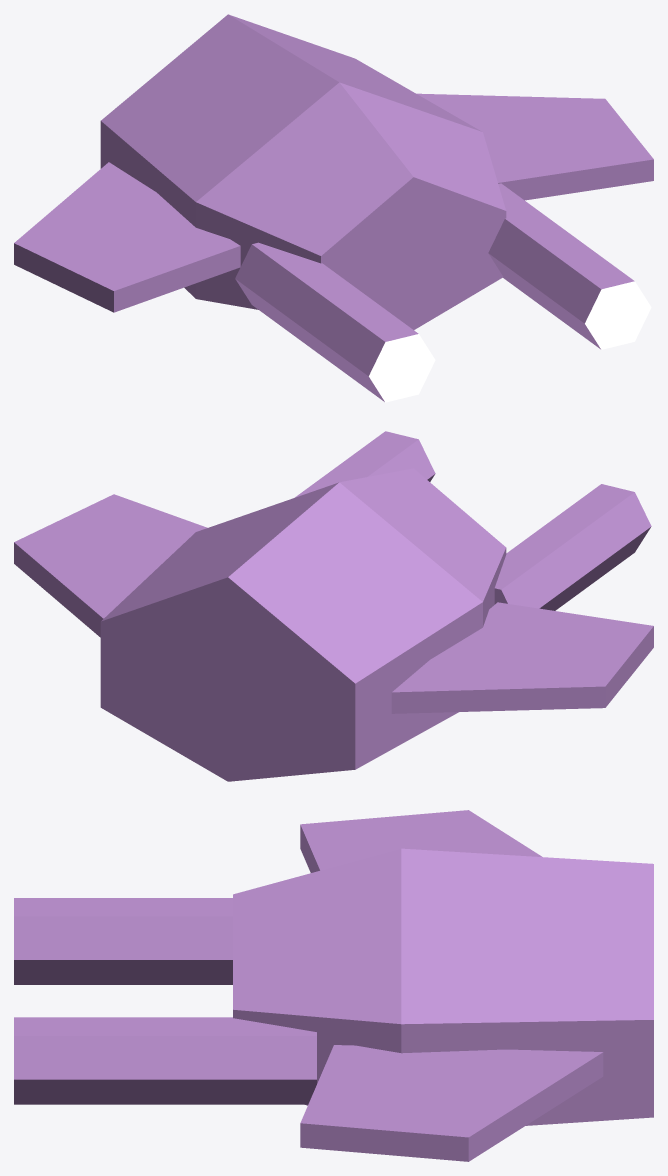
File: enemy_shooter.glb
3 renders of one model, top to bottom at view 1: azimuth 30°, elevation 25°; view 2: azimuth 150°, elevation 25°; view 3: azimuth 270°, elevation 25°, orthographic. The views are drawn at different scales.
Visible parts, largest first — view 1: Enemy_Shooter; view 2: Enemy_Shooter; view 3: Enemy_Shooter.
Part boxes in pixels (<box>): Enemy_Shooter: <box>14,14,653,402</box>; Enemy_Shooter: <box>14,431,653,781</box>; Enemy_Shooter: <box>14,810,653,1161</box>.
Bounding box in the file's own units: 2.3 × 0.855 × 1.9.
